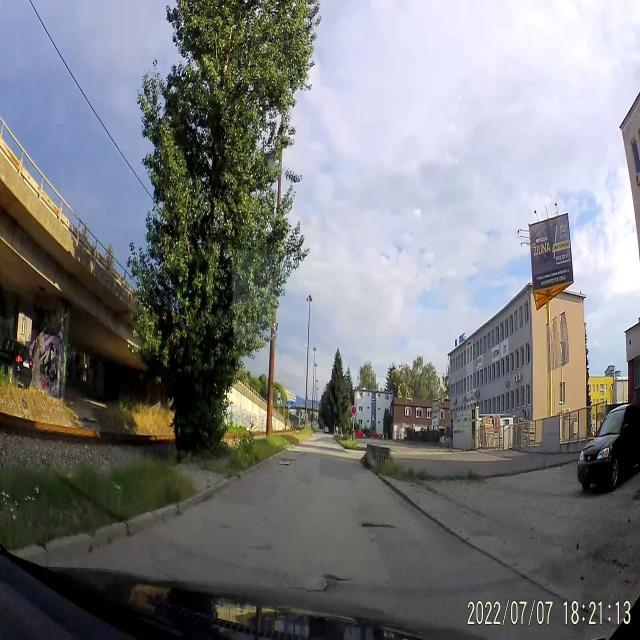Manhole: (360, 518, 398, 536), (276, 453, 298, 471)
Pothole: (318, 564, 344, 593)
